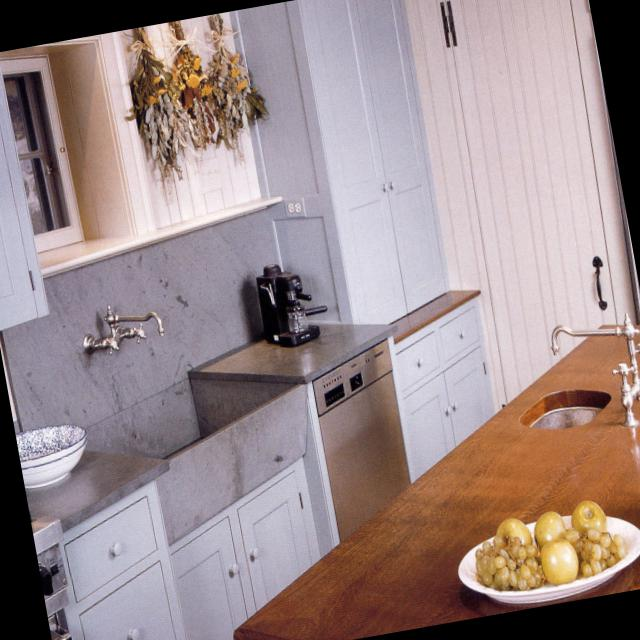2001: (0, 58, 83, 253)
apple: (542, 537, 579, 583), (574, 493, 604, 528), (535, 510, 565, 541), (496, 515, 531, 540)
bowl -X: (17, 421, 86, 486)
cabinets: (61, 405, 334, 640), (391, 305, 493, 478), (0, 65, 50, 330)
counter: (188, 289, 482, 384), (26, 438, 167, 530)
cupboard crop: (299, 0, 449, 326)
dishwasher: (312, 340, 410, 542)
door bars: (442, 0, 615, 405)
door knob: (592, 256, 607, 310)
dried flowers: (121, 14, 272, 192)
electrical outlet: (282, 197, 305, 220)
expresso machine: (256, 263, 326, 344)
faucet handle: (546, 310, 640, 433), (80, 301, 167, 360)
fruit stand: (456, 499, 640, 601)
grapes: (478, 534, 540, 582), (584, 529, 623, 568)
hinge: (438, 0, 458, 48)
island: (235, 319, 640, 640)
oven mitt: (49, 555, 60, 575)
sink basin: (76, 377, 306, 545), (520, 387, 609, 431)
stove burner: (31, 515, 70, 640)
wall clock: (0, 0, 350, 429), (404, 0, 484, 286), (571, 0, 640, 321)
